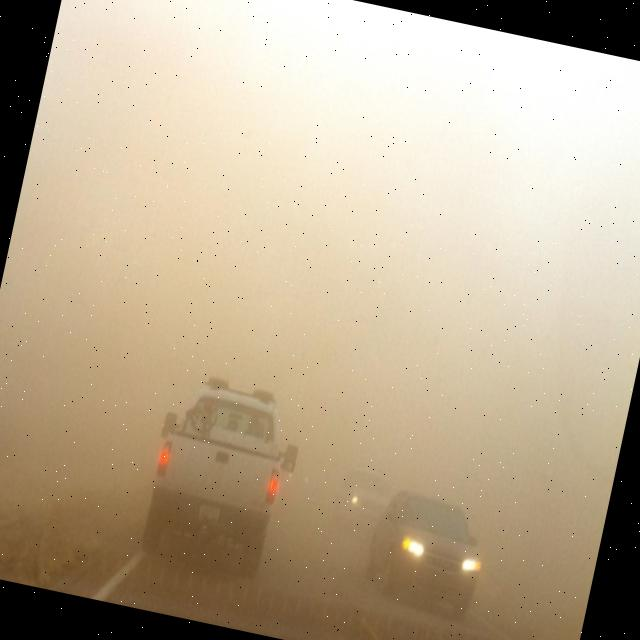bus: (132, 367, 304, 588)
car: (356, 484, 496, 622), (332, 468, 396, 544), (278, 452, 313, 495)
